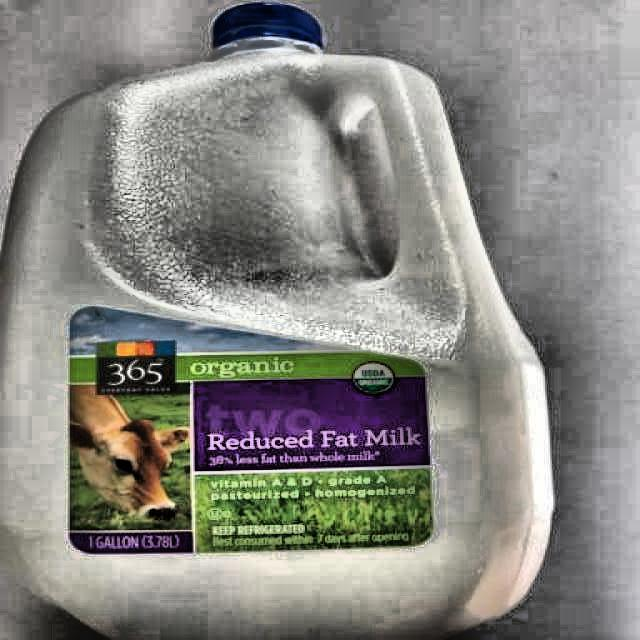plastic: (0, 4, 552, 640)
